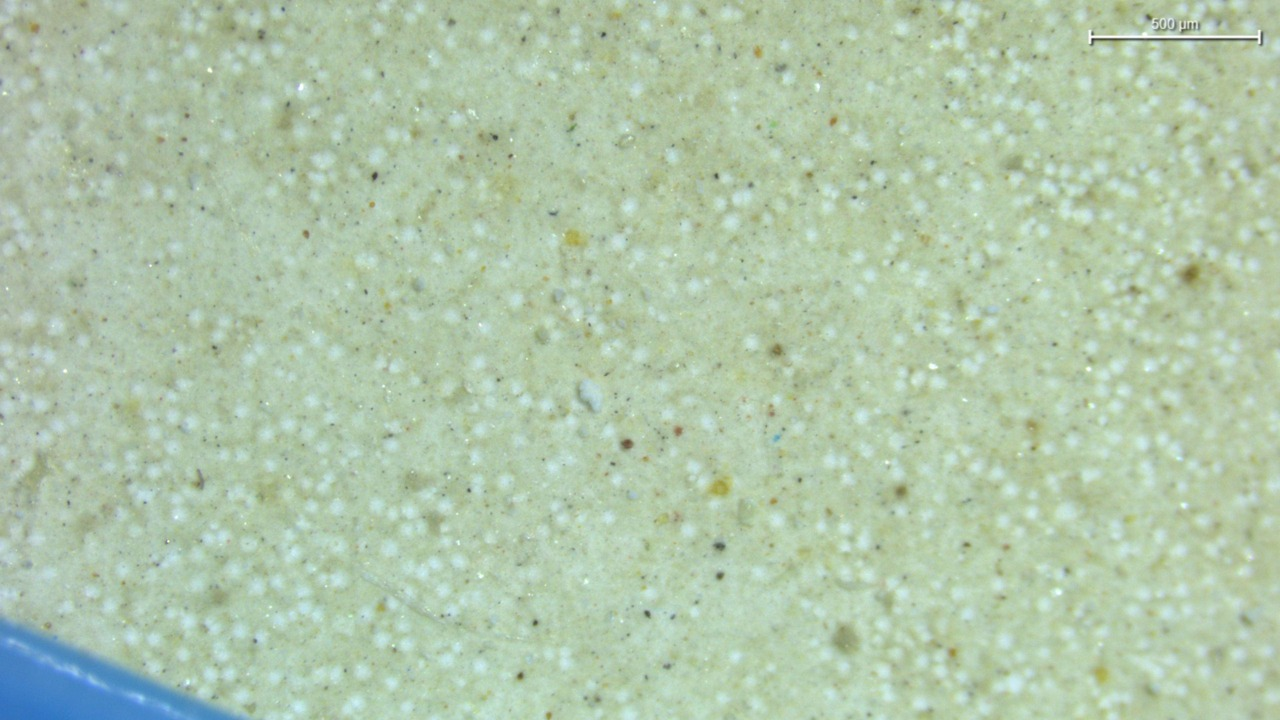microplastic_fragment: (577, 378, 603, 412)
